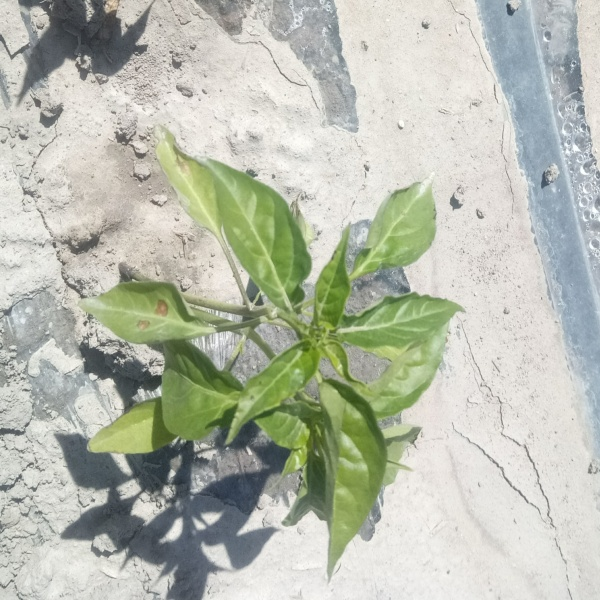Anthrax: (78, 280, 197, 345)
